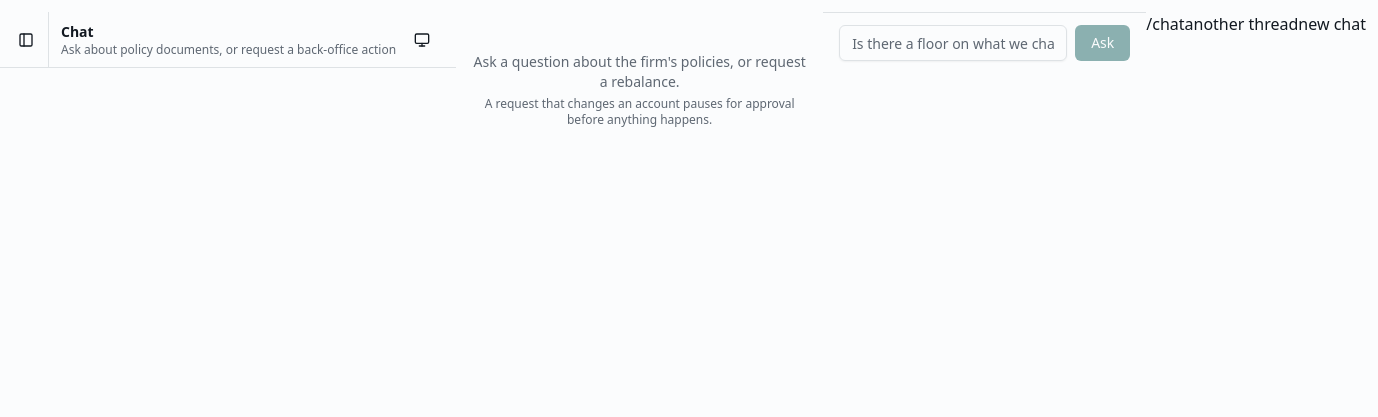
ChatPage › reuses one thread, so a follow-up continues the conversation
The width and height of the screenshot is (1378, 417).
Type "first question" into the field named "Message" at (953, 43), box [839, 25, 1067, 61]
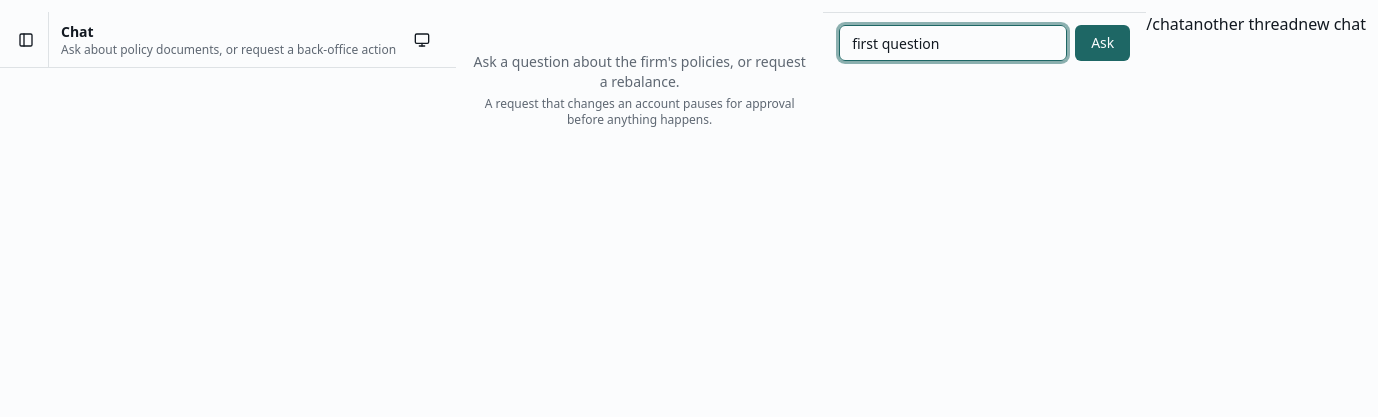
Click the button "Ask" at (1103, 43), box [1075, 25, 1130, 61]
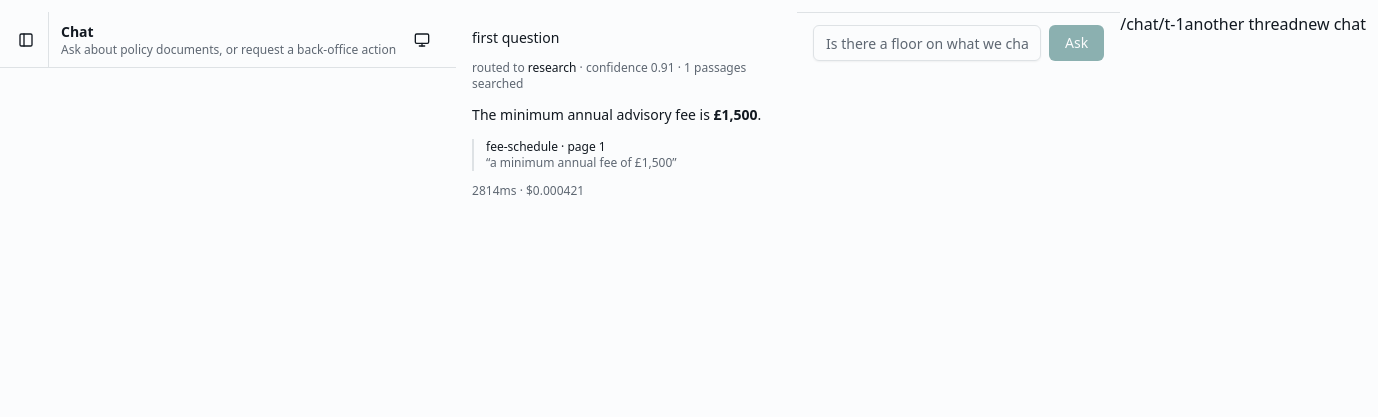
Expected: the number of elements with test id "answer" is 1, [472, 104, 781, 127]
Type "second question" into the field named "Message" at (927, 43), box [813, 25, 1041, 61]
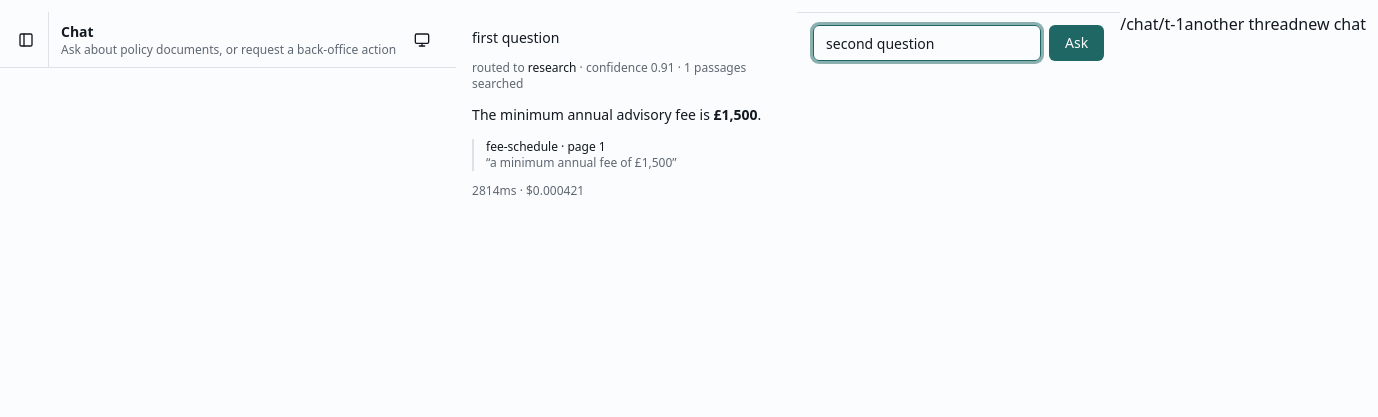
Click the button "Ask" at (1077, 43), box [1049, 25, 1104, 61]
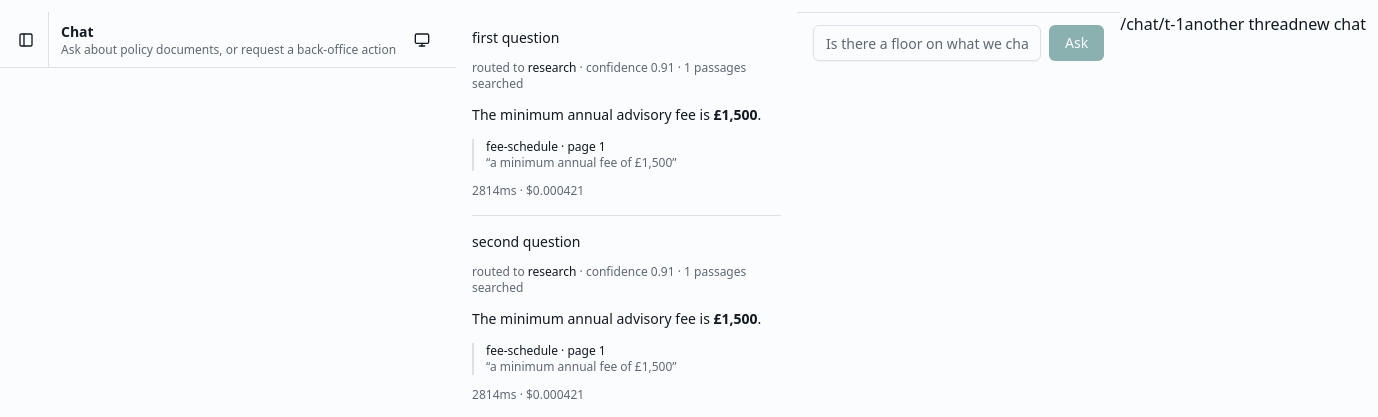
Expected: the number of elements with test id "answer" is 2, [472, 104, 781, 127]; [472, 308, 781, 331]
